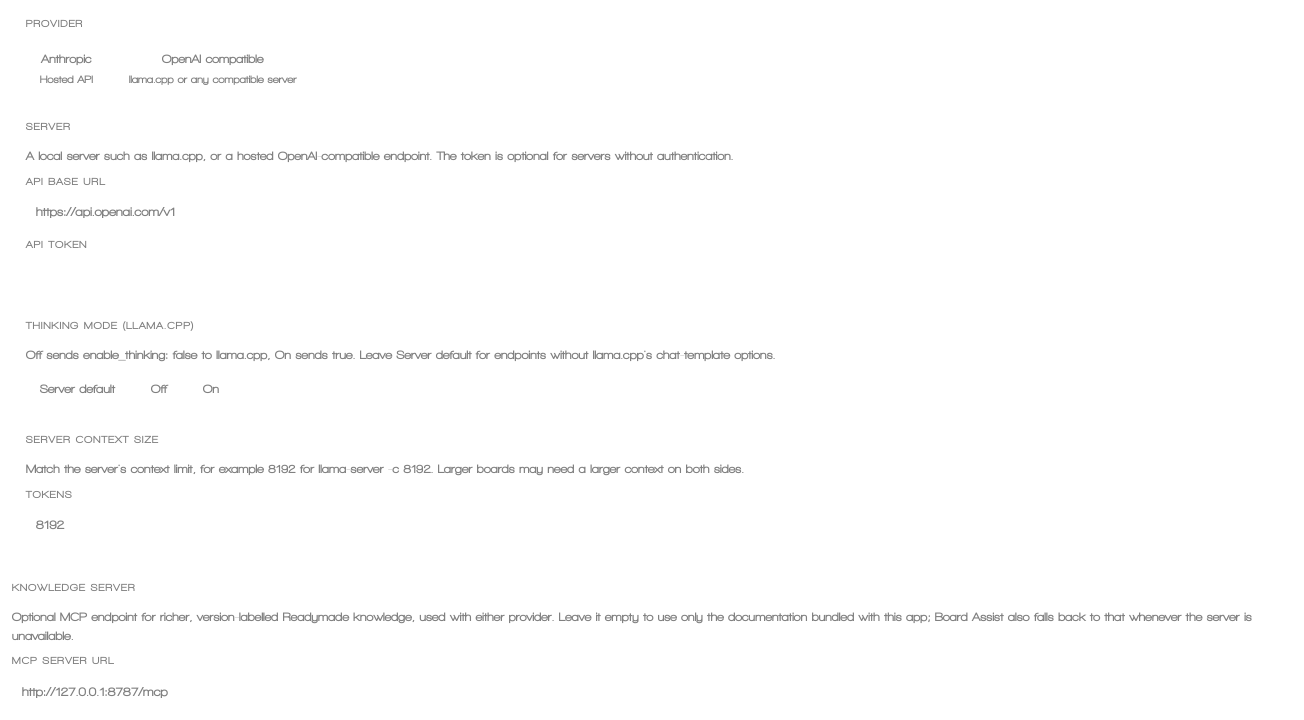
it: warns about plain HTTP endpoints on another machine without refusing them
The image size is (1304, 720).
Replace the text in the field labelled "API base URL" with "http://192.168.1.20:8081/v1". click: (652,212)
box: x1=26 y1=195 x2=1278 y2=229
(page scrolled)
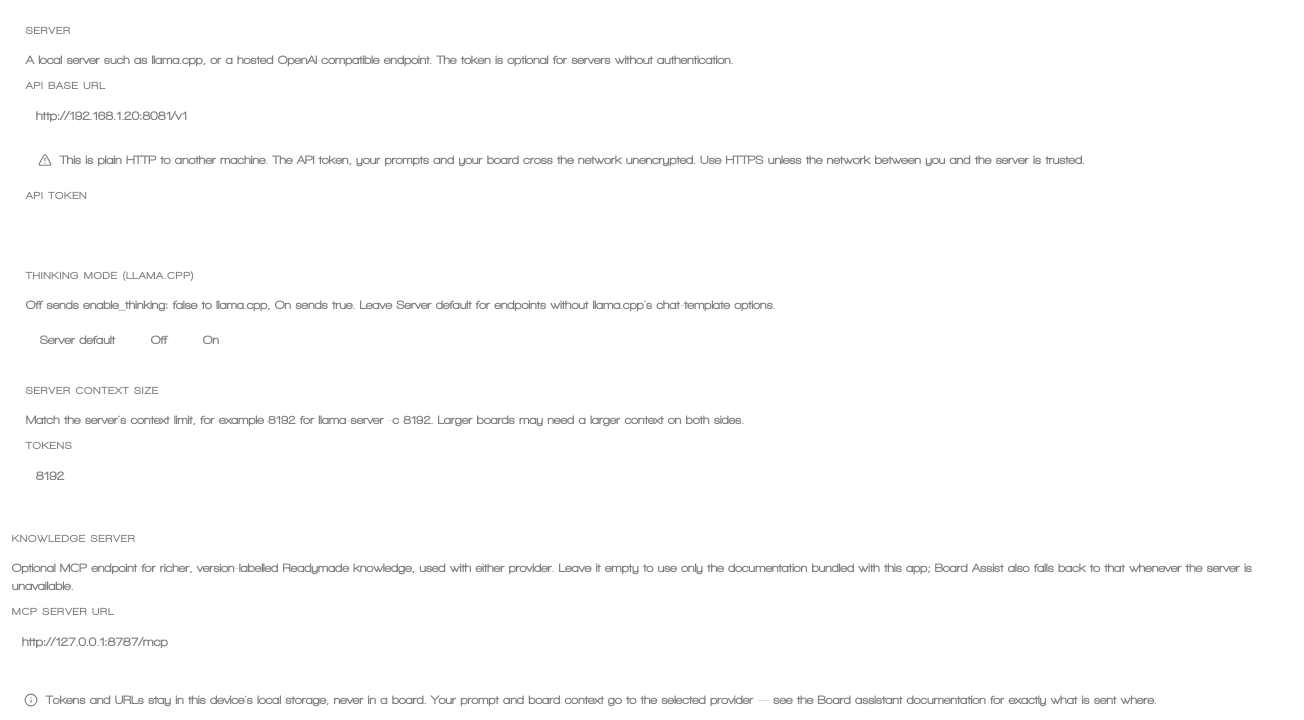
Check: the text "API token, your prompts" is shown, box x1=60 y1=153 x2=1085 y2=166
Type "http://knowledge.lan:8787/mcp" into the field labelled "MCP server URL". click: (652,642)
box: x1=12 y1=625 x2=1292 y2=659
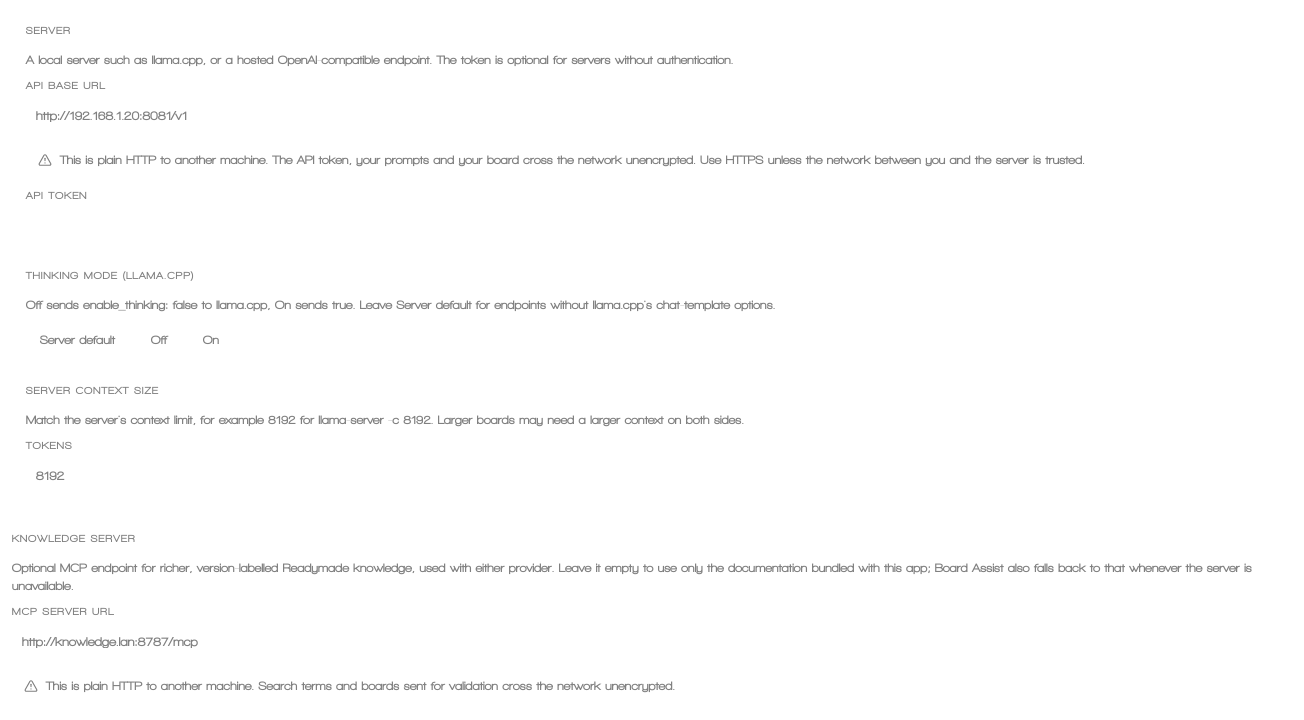
Check: the text "Search terms and boards" is shown, box x1=46 y1=679 x2=675 y2=692
Replace the text in the field labelled "API base URL" with "http://127.0.0.1:8081/v1". click: (652,116)
box: x1=26 y1=99 x2=1278 y2=133
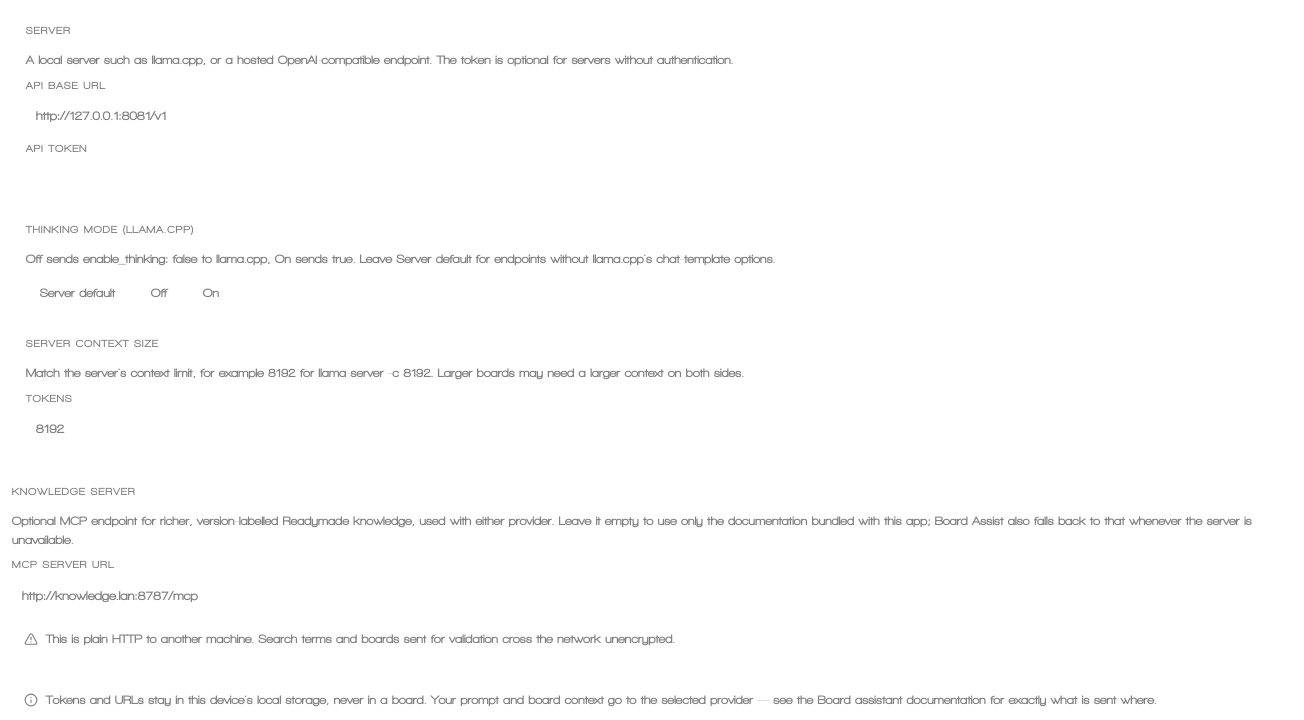
Check: the text "API token, your prompts" is gone
